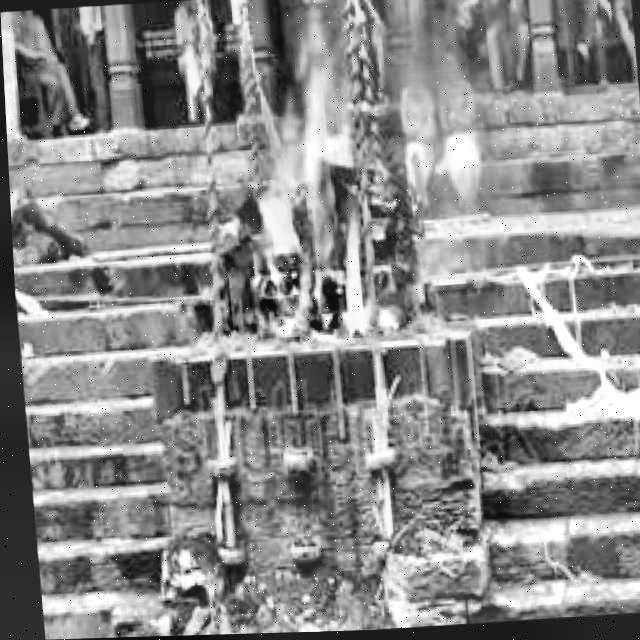Fire: (241, 79, 391, 338)
